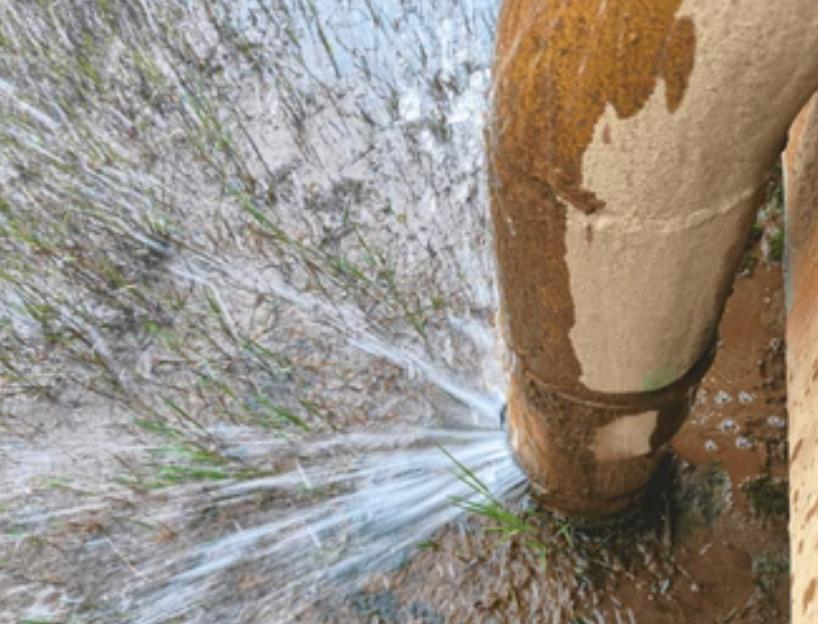pipe burst: (113, 253, 547, 624)
